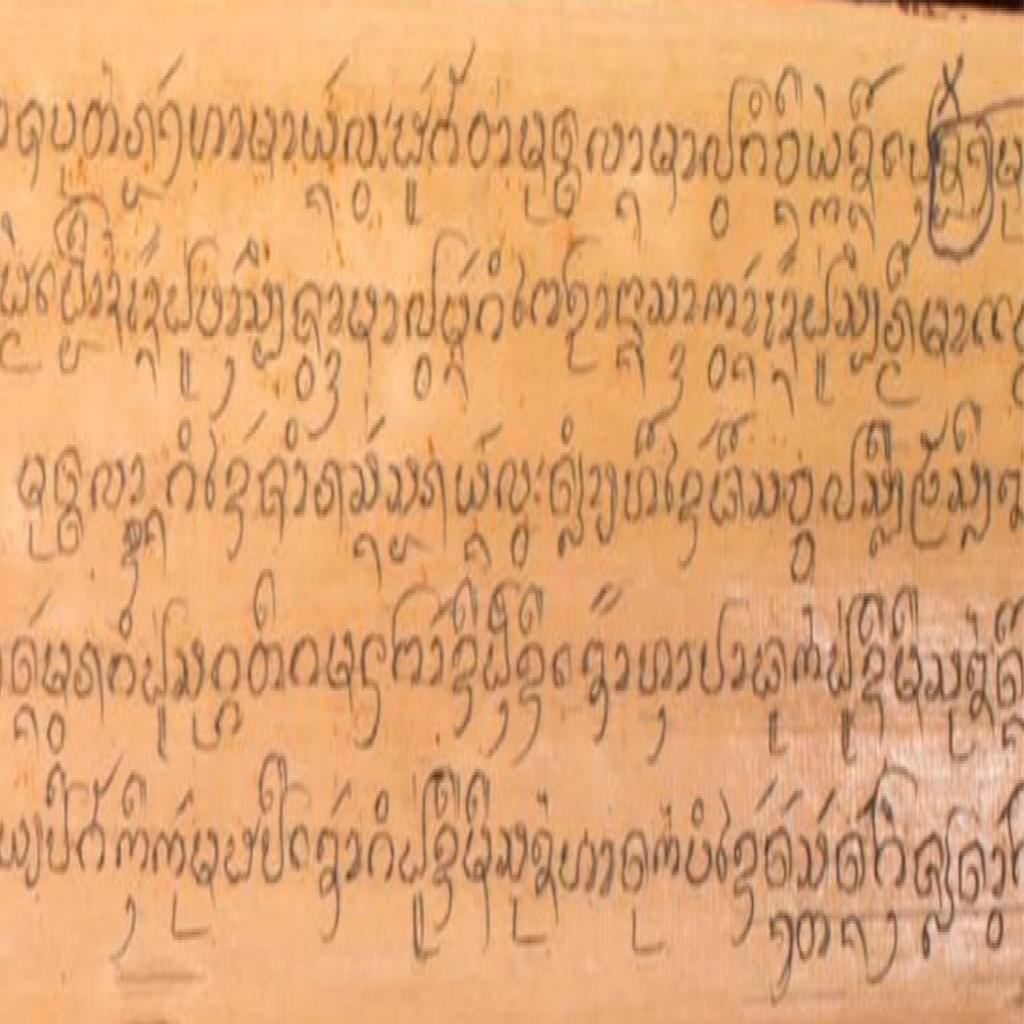LN008: (292, 277, 327, 354)
